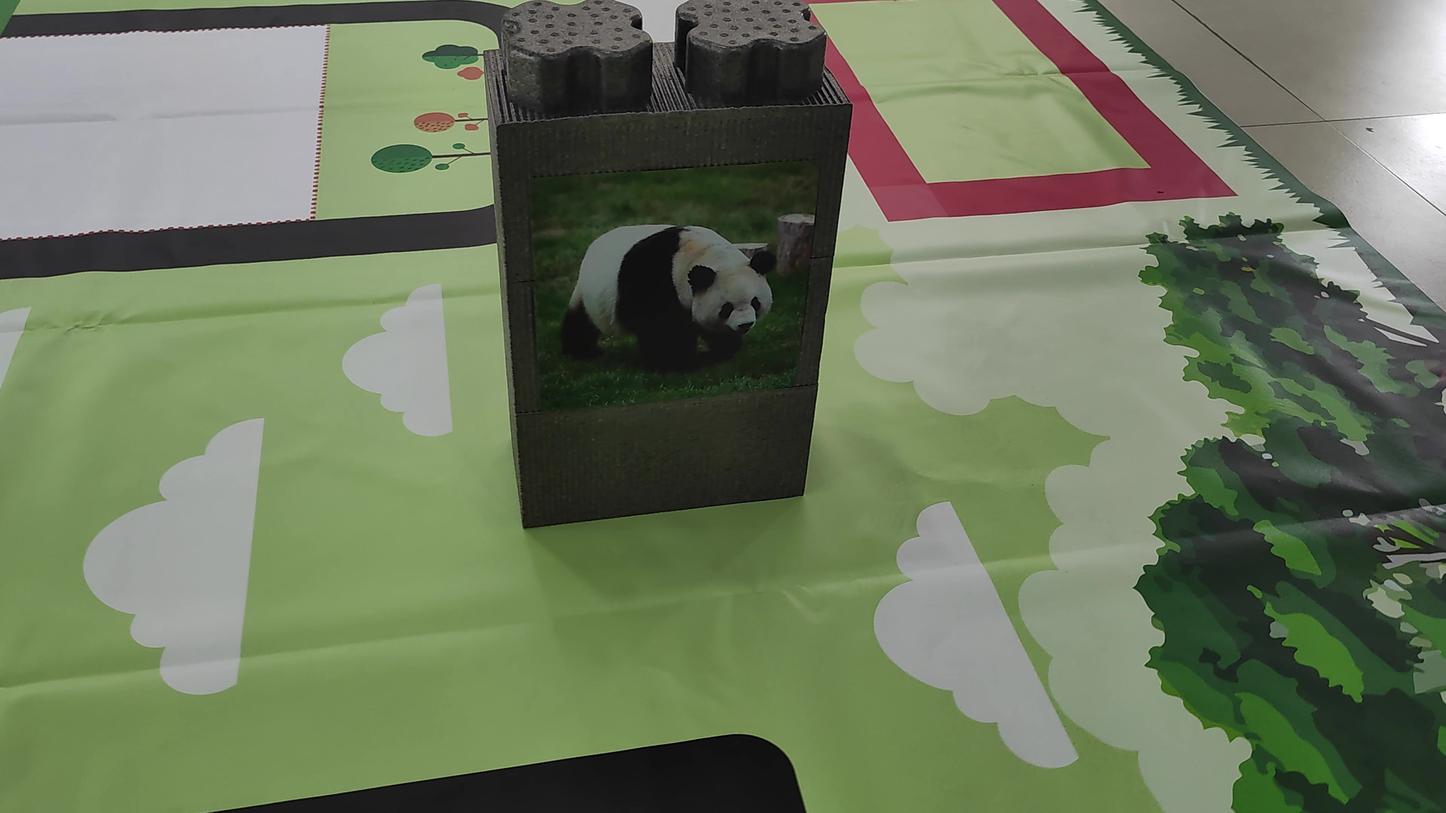panda: (546, 212, 781, 390)
